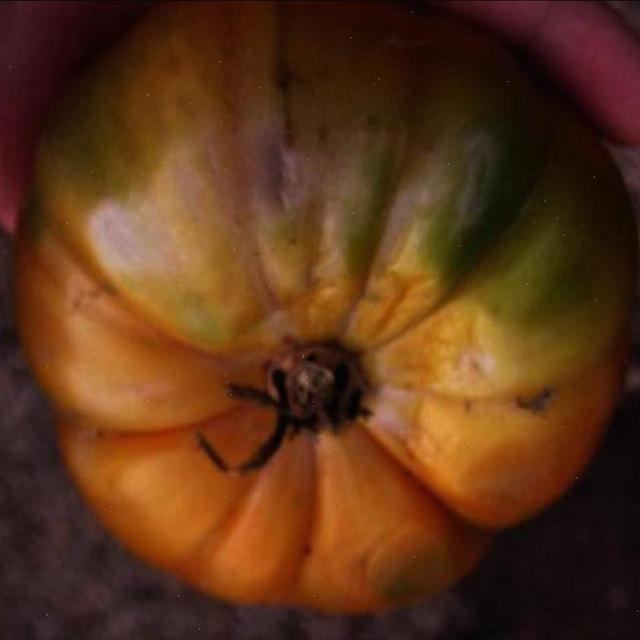Sunscald Fruit: (78, 79, 332, 370)
